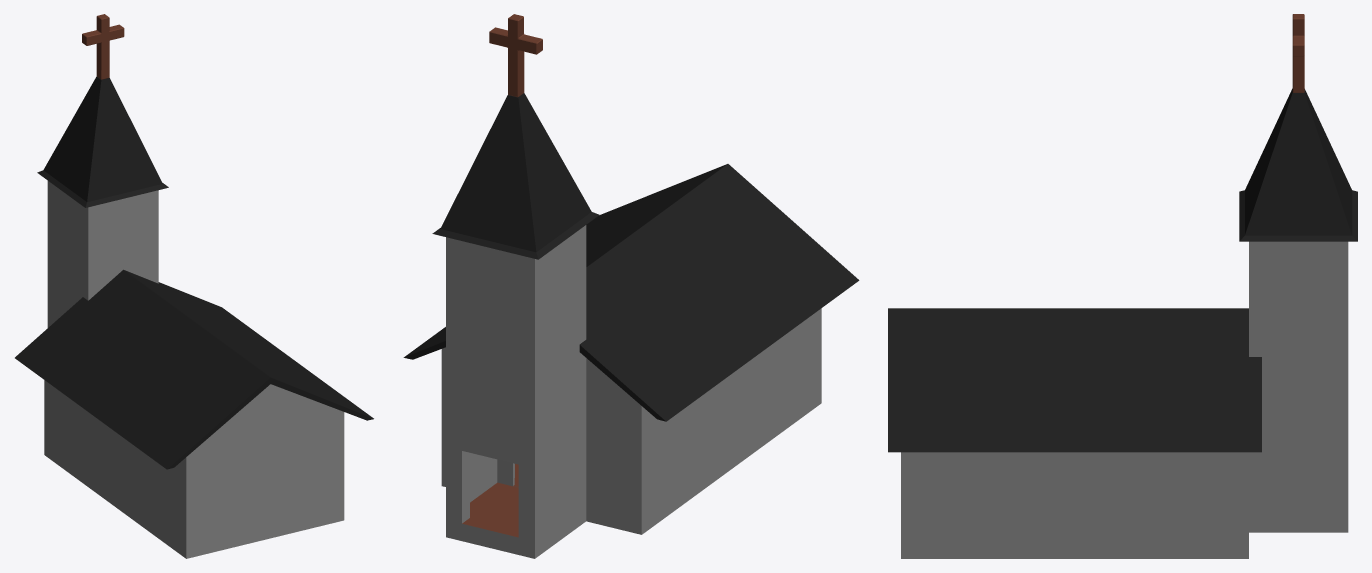
The model's file is Iglesia.fbx.
The picture shows the model from 3 angles, left to right: view 1: azimuth 30°, elevation 25°; view 2: azimuth 150°, elevation 25°; view 3: azimuth 270°, elevation 25°; orthographic projection. The views are drawn at different scales.
Visible parts, largest first — view 1: Iglesia; view 2: Iglesia; view 3: Iglesia.
Part boxes in pixels (left/top/right/bottom): Iglesia: left=15, top=14, right=373, bottom=558; Iglesia: left=403, top=14, right=859, bottom=558; Iglesia: left=888, top=14, right=1357, bottom=558.
Size of the model in its own units: 1183 by 2201 by 1891.
